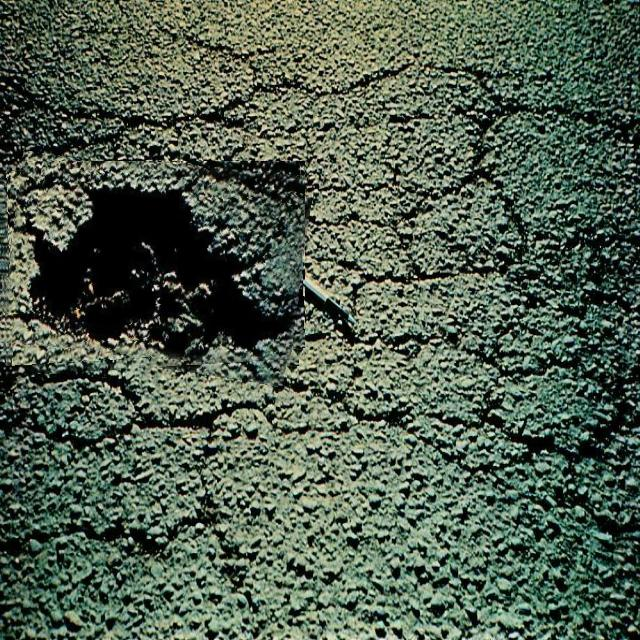Pothole: (0, 161, 305, 376)
